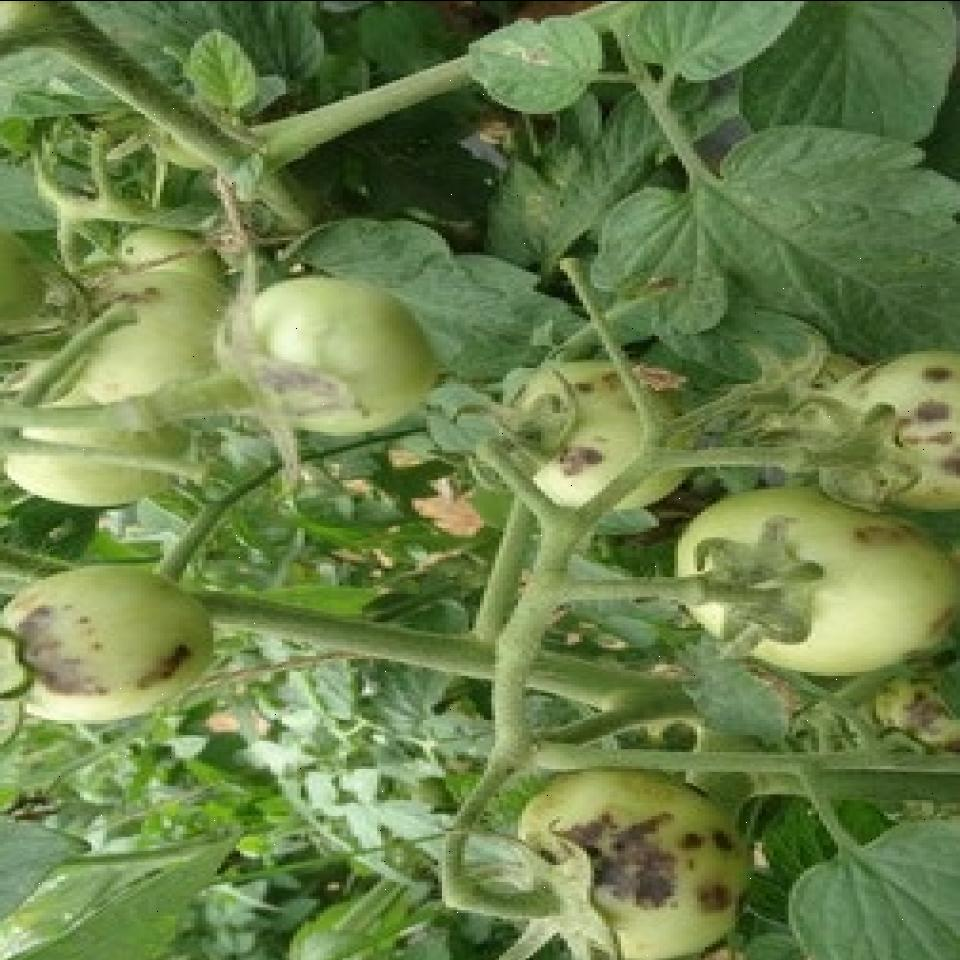Spotted wilt Virus: (674, 486, 960, 684), (510, 771, 754, 960), (0, 559, 217, 720), (488, 356, 695, 514), (800, 350, 960, 516)
